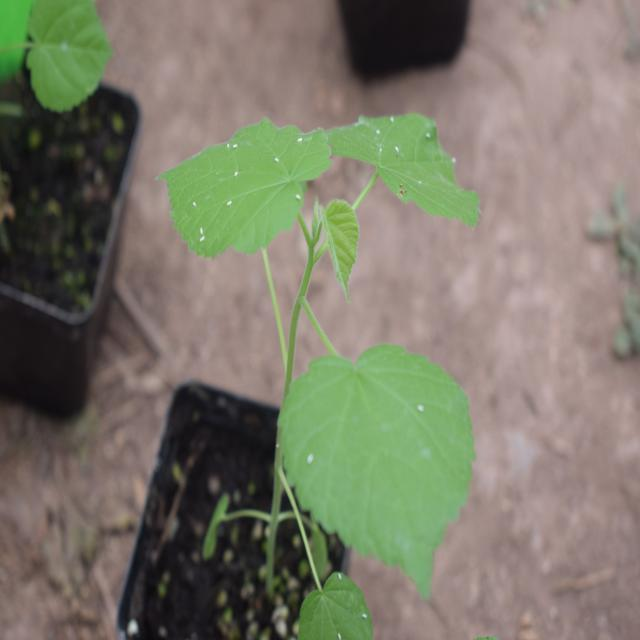abutilon theophrasti: (163, 84, 494, 616)
